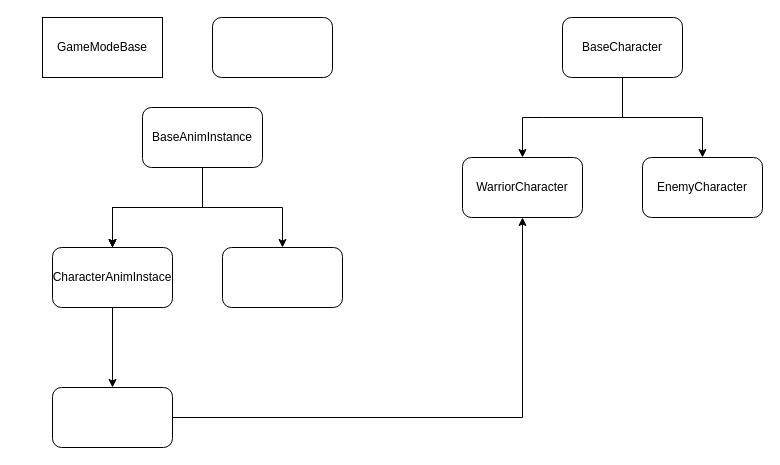
Image size: 780x465. Some labels were removed from this diagram. Each missing label, with the box of its shape:
HeroLinkedAnimLayer: (222, 246, 342, 308)
Player Controller: (212, 16, 332, 78)
WarriorHeroCharacterAnimInstance: (52, 386, 172, 448)
